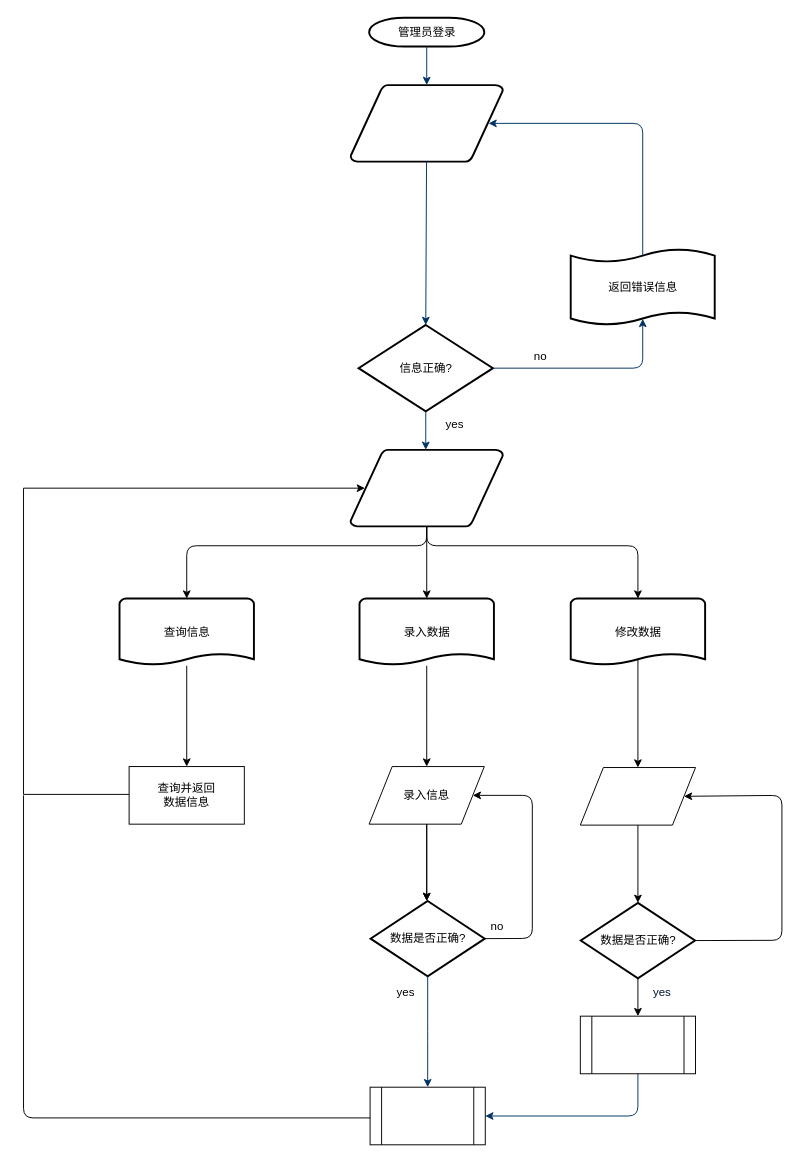
Some shapes in this 806 by 1162 pixel diagram are drawn without their labels. The shapes that lost their labels are listed below. From the top down, each one's centre as x and y in pixels, then its label:
At pixel 426 123: "输入登录信息".
At pixel 426 487: "选择操作".
At pixel 637 796: "修改信息".
At pixel 637 1044: "向老师学生发送通知".
At pixel 427 1115: "写入数据库".
